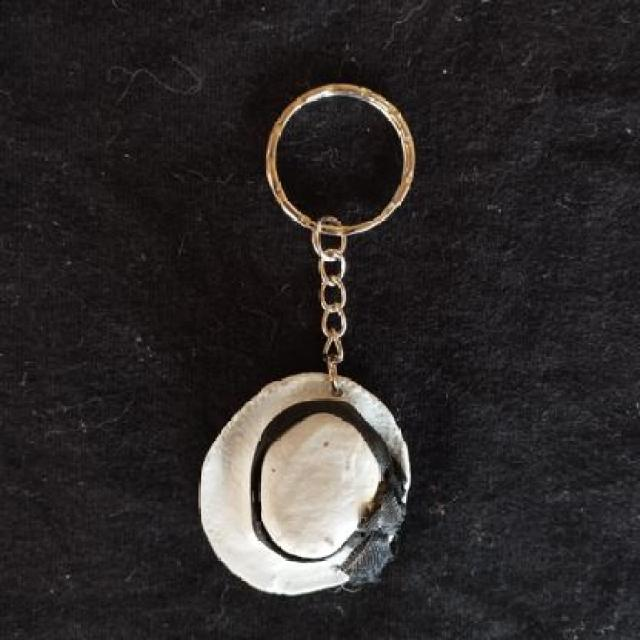Llavero: (197, 370, 412, 598)
